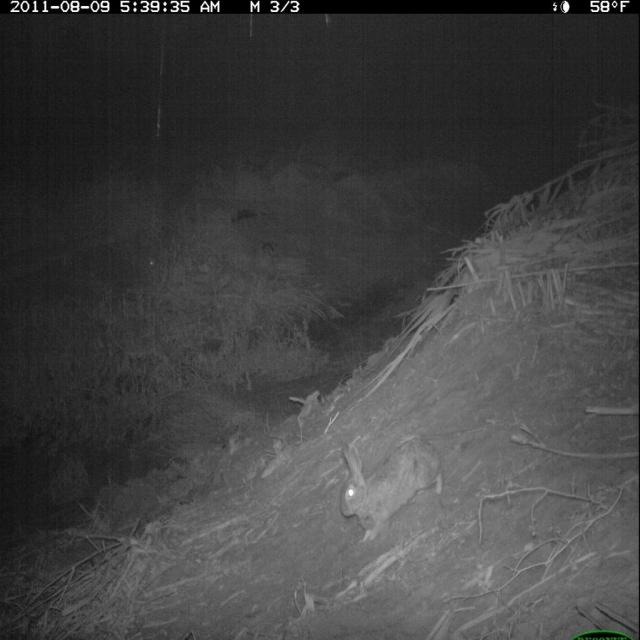rabbit: (338, 435, 449, 548)
